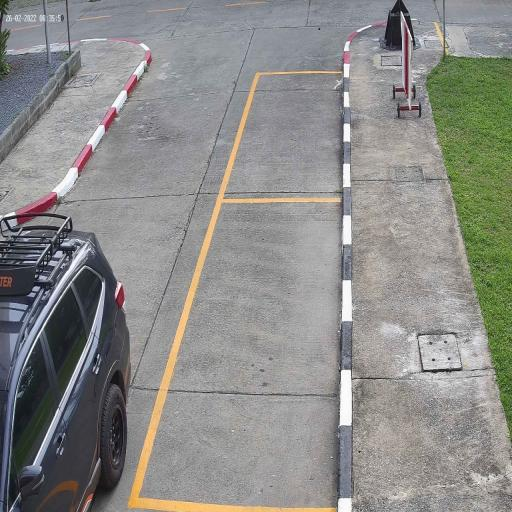car: (0, 222, 133, 512)
